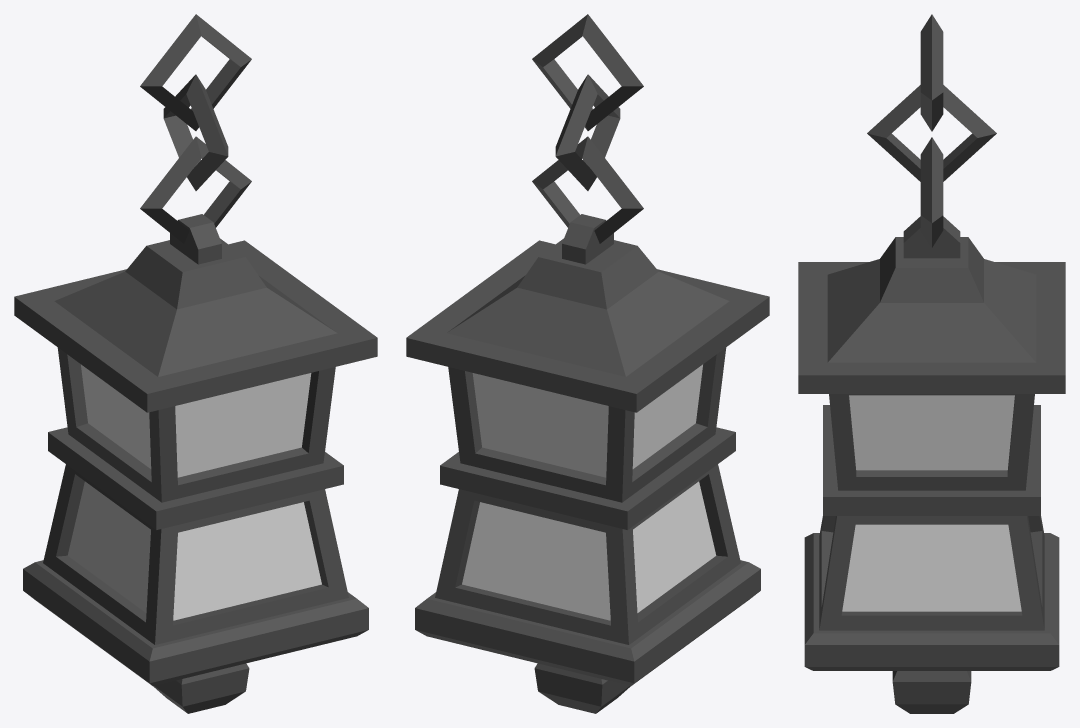
File: Lantern.001.fbx
The picture shows the model from 3 angles, left to right: view 1: azimuth 30°, elevation 25°; view 2: azimuth 150°, elevation 25°; view 3: azimuth 270°, elevation 25°; orthographic projection.
Parts seen in each view (by area): view 1: Lantern.001; view 2: Lantern.001; view 3: Lantern.001.
Part boxes in pixels (x1,y1,x2,y2): Lantern.001: [14, 14, 377, 713]; Lantern.001: [406, 14, 769, 713]; Lantern.001: [798, 14, 1065, 713].
Size of the model in its own units: 0.2566 by 0.7312 by 0.2566.
